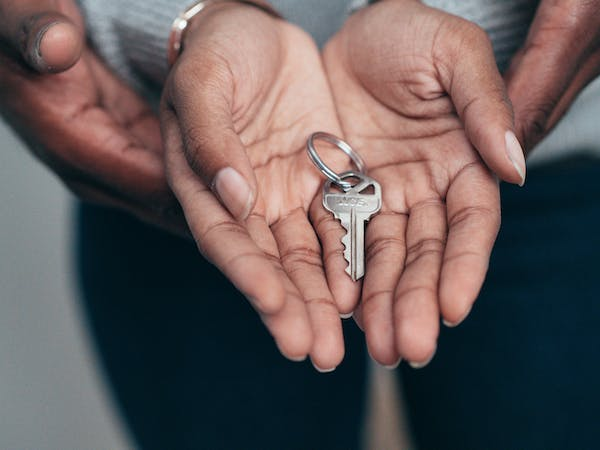key: (323, 169, 383, 283)
